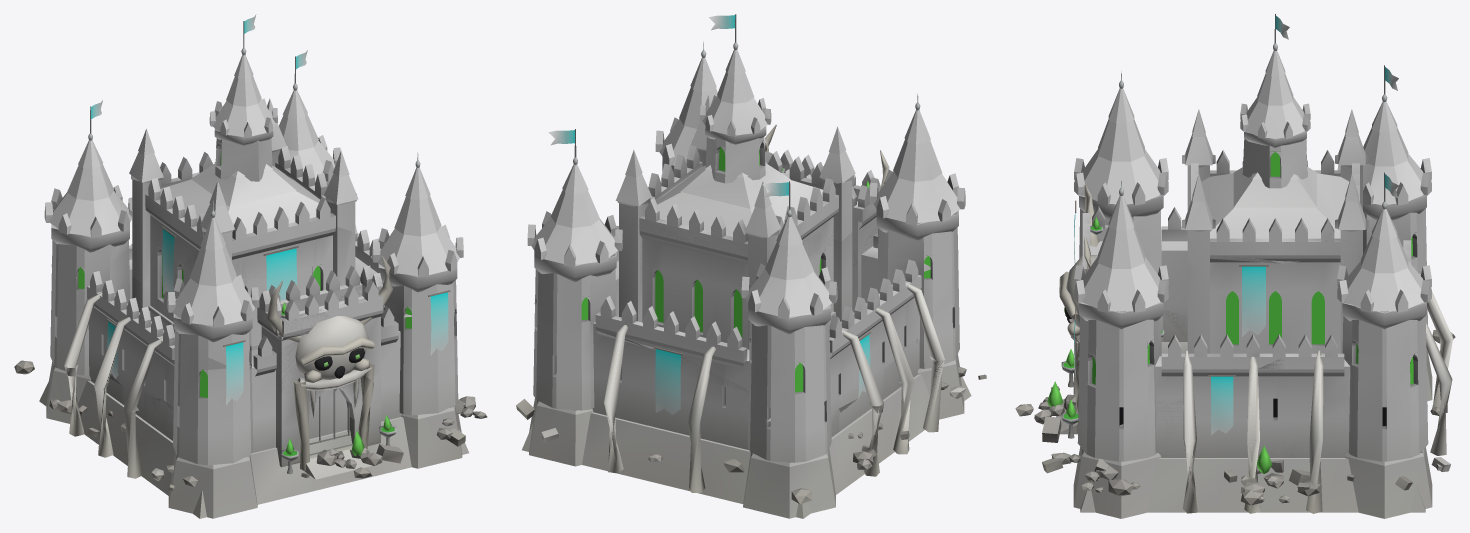
Rendered from keep_ashen_lod1.glb.
The picture shows the model from 3 angles, left to right: view 1: azimuth 30°, elevation 25°; view 2: azimuth 150°, elevation 25°; view 3: azimuth 270°, elevation 25°; orthographic projection. The views are drawn at different scales.
Visible parts, largest first — view 1: stage0, stage3, stage2; view 2: stage0, stage2, stage3; view 3: stage0, stage3, stage2, stage1.
Boxes of the visible parts, x1,y1,x2,y2 form: stage0: (39,14,468,518); stage3: (14,260,487,478); stage2: (49,150,478,486); stage0: (522,14,971,518); stage2: (516,185,966,472); stage3: (562,227,944,504); stage0: (1056,14,1453,518); stage3: (1015,300,1455,506); stage2: (1051,233,1427,493); stage1: (1078,331,1418,492).
Bounding box in the file's own units: 22.91 × 25.3 × 23.59.
